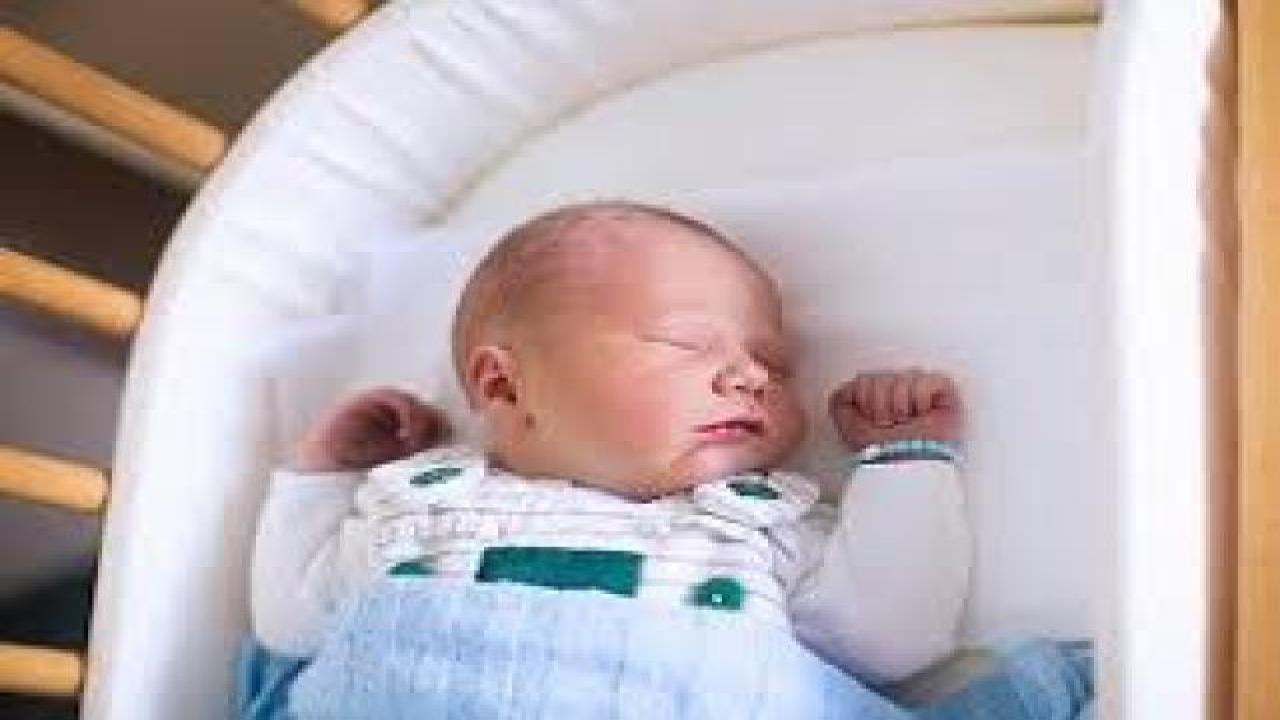hand: (301, 390, 445, 471), (825, 375, 965, 442)
